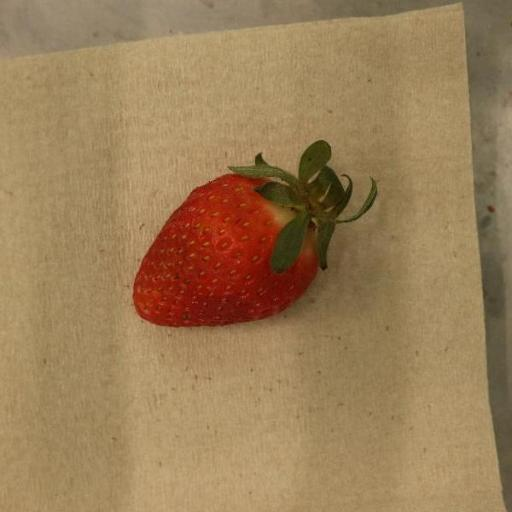Strawberry: (134, 140, 378, 328)
